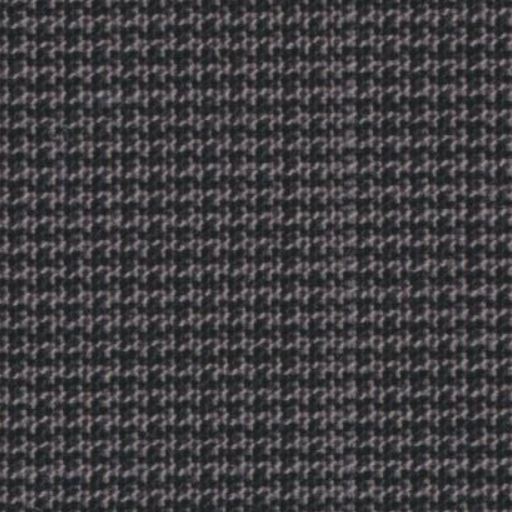TuoSha: (281, 8, 388, 488)
